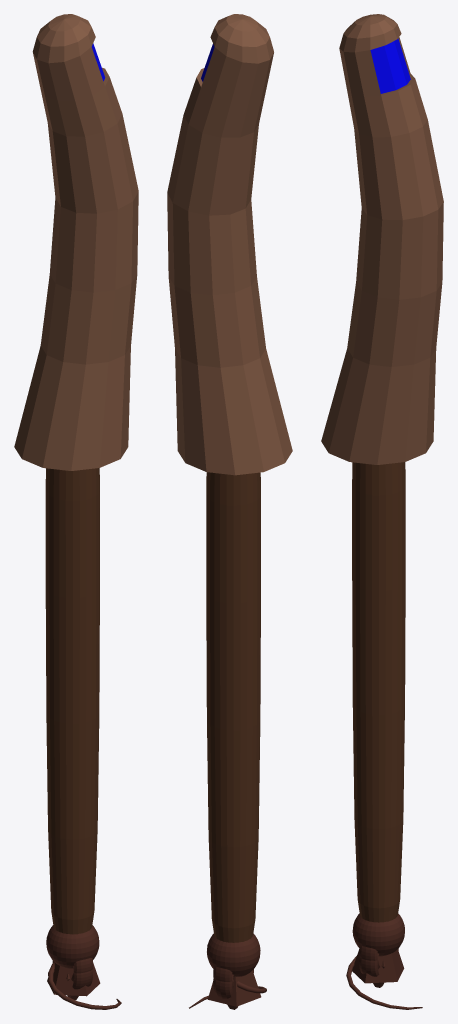
File: Wand 41.glb
3 views of the same model, side by side, from view 1: azimuth 30°, elevation 25°; view 2: azimuth 150°, elevation 25°; view 3: azimuth 330°, elevation 25° (orthographic). The views are drawn at different scales.
Parts seen in each view (by area): view 1: GeneratedWand, Pommel_4, Pommel_9, Pommel_10, Pommel_2; view 2: GeneratedWand, Pommel_4, Pommel_9, Pommel_2; view 3: GeneratedWand, Pommel_4, Pommel_9, Pommel_10, Pommel_2.
Boxes of the visible parts, bbox=[...] form: GeneratedWand: bbox=[14, 14, 138, 981]; Pommel_4: bbox=[46, 925, 99, 968]; Pommel_9: bbox=[47, 961, 100, 996]; Pommel_10: bbox=[48, 962, 121, 1009]; Pommel_2: bbox=[52, 960, 92, 989]; GeneratedWand: bbox=[167, 14, 292, 988]; Pommel_4: bbox=[207, 933, 260, 976]; Pommel_9: bbox=[207, 970, 261, 1006]; Pommel_2: bbox=[213, 969, 253, 998]; GeneratedWand: bbox=[321, 14, 443, 968]; Pommel_4: bbox=[352, 913, 404, 956]; Pommel_9: bbox=[352, 949, 404, 983]; Pommel_10: bbox=[346, 956, 422, 1009]; Pommel_2: bbox=[359, 948, 398, 976].
Size of the model in its own units: 0.0644 by 0.5492 by 0.0572.
